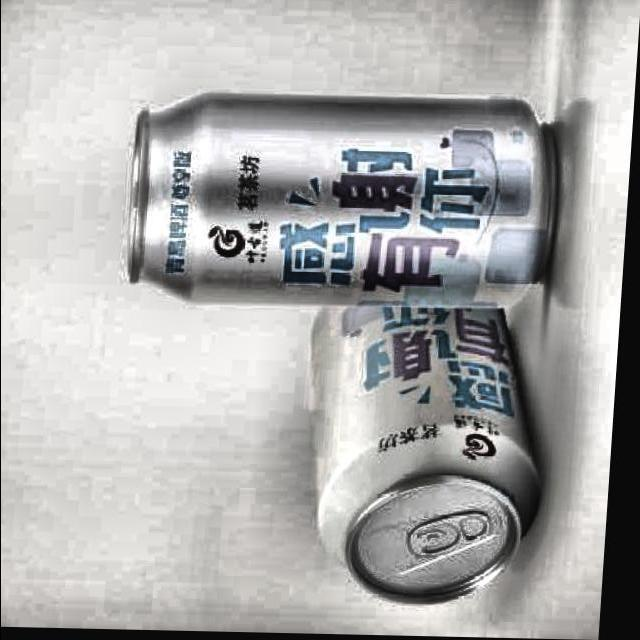Aluminum Can: (119, 85, 568, 315), (296, 294, 559, 608)
